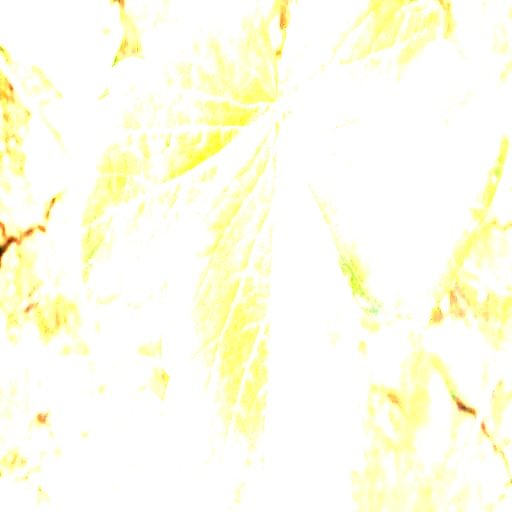Leaf Spot: (160, 105, 369, 511), (276, 0, 510, 332), (65, 0, 279, 311), (365, 316, 425, 392)
